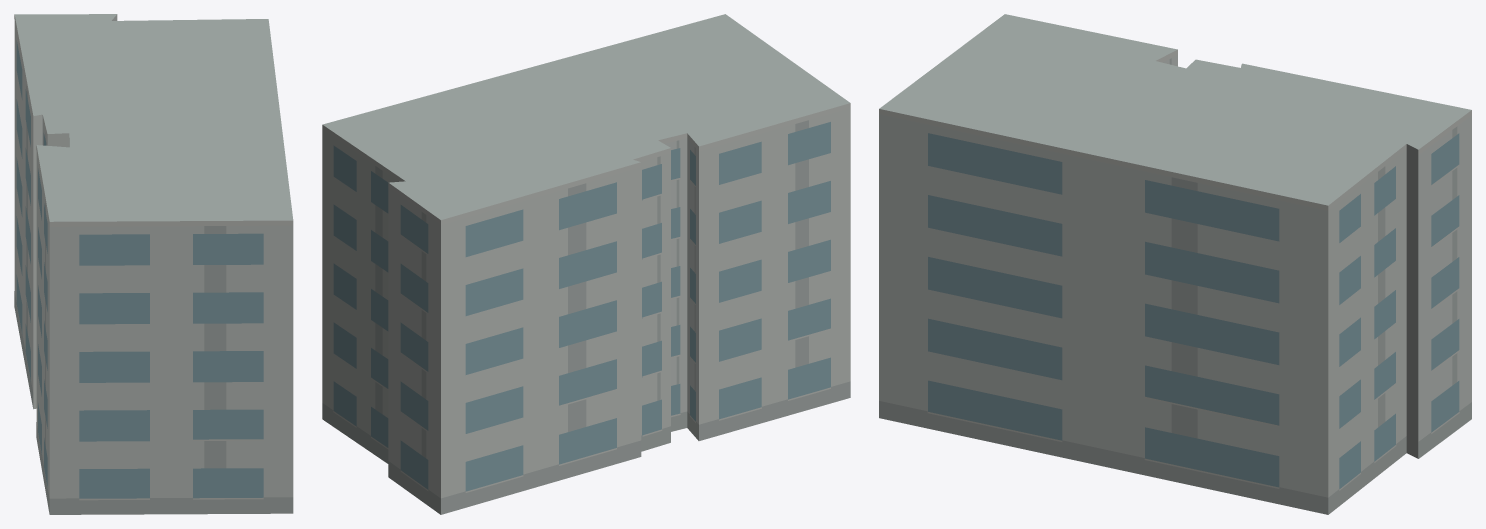
The model's file is survey-upis-32593462.glb.
3 views of the same model, side by side, from view 1: azimuth 30°, elevation 25°; view 2: azimuth 150°, elevation 25°; view 3: azimuth 270°, elevation 25° (orthographic). The views are drawn at different scales.
Visible parts, largest first — view 1: survey-upis-32593462.tmp; view 2: survey-upis-32593462.tmp; view 3: survey-upis-32593462.tmp.
Boxes of the visible parts, x1,y1,x2,y2 form: survey-upis-32593462.tmp: (14,14,293,514); survey-upis-32593462.tmp: (322,14,850,514); survey-upis-32593462.tmp: (879,14,1471,514).
Bounding box in the file's own units: 18.61 × 14 × 24.33.
